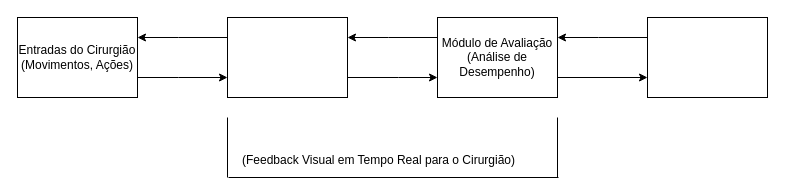
This 785x196 diagram has some shape labels left out. Each missing label, with the centre of its shape:
"Motor de Simulação VR (Simulação Cirúrgica)" belongs at [287,57].
"Relatórios/Feedback (Dados de Desempenho)" belongs at [707,57].
